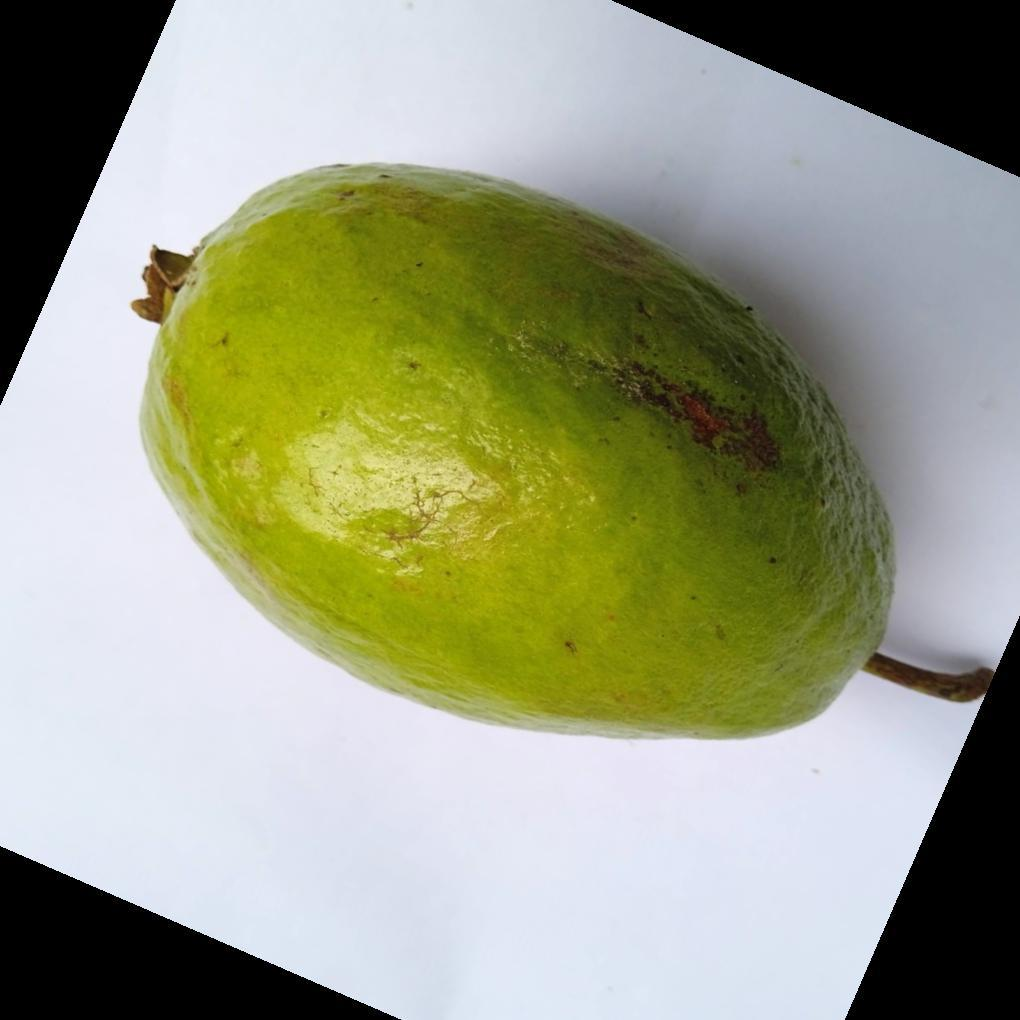FreshGuava: (136, 163, 897, 745)
